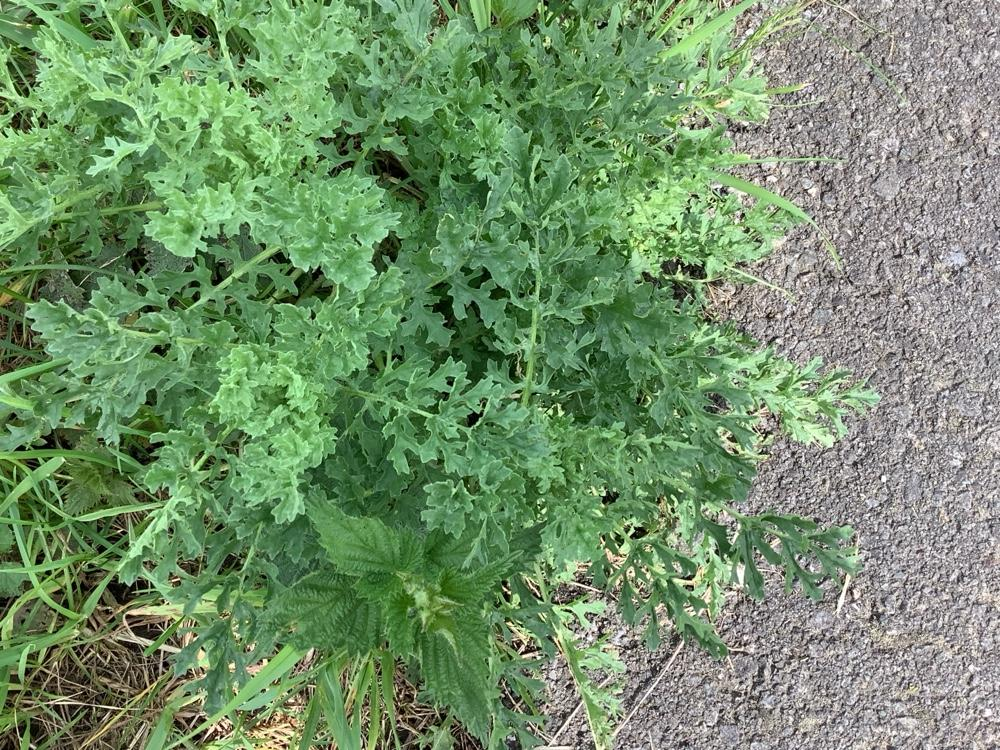Jacobaea vulgaris: (0, 1, 888, 652)
